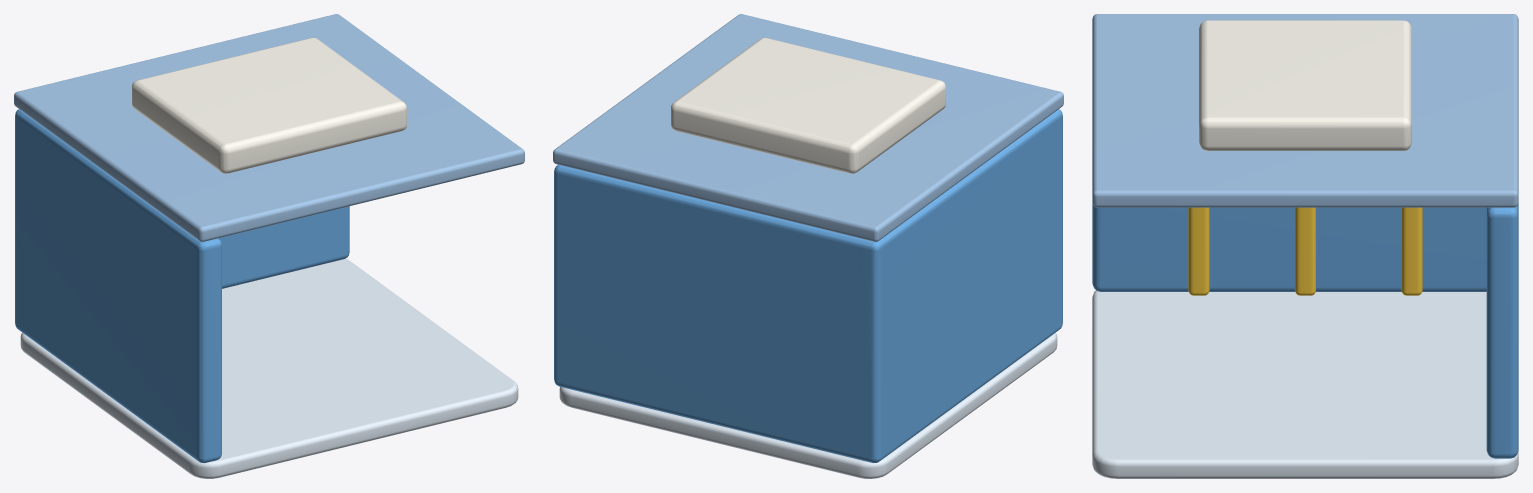
Rendered from pcv_trash_intake_corner.glb.
3 views of the same model, side by side, from view 1: azimuth 30°, elevation 25°; view 2: azimuth 150°, elevation 25°; view 3: azimuth 270°, elevation 25° (orthographic). The views are drawn at different scales.
Visible parts, largest first — view 1: pcv_trash_intake_corner.outer_recovery_wall_w, pcv_trash_intake_corner.walk_surface_floor, pcv_trash_intake_corner.roof_above_clearance, pcv_trash_intake_corner.intake_sorting_hood, pcv_trash_intake_corner.outer_recovery_wall_n; view 2: pcv_trash_intake_corner.outer_recovery_wall_n, pcv_trash_intake_corner.roof_above_clearance, pcv_trash_intake_corner.outer_recovery_wall_w, pcv_trash_intake_corner.intake_sorting_hood, pcv_trash_intake_corner.walk_surface_floor; view 3: pcv_trash_intake_corner.walk_surface_floor, pcv_trash_intake_corner.roof_above_clearance, pcv_trash_intake_corner.outer_recovery_wall_w, pcv_trash_intake_corner.intake_sorting_hood, pcv_trash_intake_corner.outer_recovery_wall_n, pcv_trash_intake_corner.recovery_wall_rib, pcv_trash_intake_corner.recovery_wall_rib.002, pcv_trash_intake_corner.recovery_wall_rib.001.
Boxes of the visible parts, x1,y1,x2,y2 form: pcv_trash_intake_corner.outer_recovery_wall_w: [15, 109, 221, 463]; pcv_trash_intake_corner.walk_surface_floor: [20, 258, 518, 478]; pcv_trash_intake_corner.roof_above_clearance: [14, 14, 524, 241]; pcv_trash_intake_corner.intake_sorting_hood: [132, 37, 406, 173]; pcv_trash_intake_corner.outer_recovery_wall_n: [15, 110, 349, 333]; pcv_trash_intake_corner.outer_recovery_wall_n: [554, 164, 887, 462]; pcv_trash_intake_corner.roof_above_clearance: [553, 14, 1063, 241]; pcv_trash_intake_corner.outer_recovery_wall_w: [859, 109, 1062, 463]; pcv_trash_intake_corner.intake_sorting_hood: [671, 37, 945, 173]; pcv_trash_intake_corner.walk_surface_floor: [559, 332, 1057, 478]; pcv_trash_intake_corner.walk_surface_floor: [1092, 290, 1518, 478]; pcv_trash_intake_corner.roof_above_clearance: [1092, 14, 1518, 207]; pcv_trash_intake_corner.outer_recovery_wall_w: [1092, 203, 1486, 291]; pcv_trash_intake_corner.intake_sorting_hood: [1199, 20, 1411, 150]; pcv_trash_intake_corner.outer_recovery_wall_n: [1486, 203, 1518, 458]; pcv_trash_intake_corner.recovery_wall_rib: [1188, 207, 1209, 295]; pcv_trash_intake_corner.recovery_wall_rib.002: [1401, 207, 1422, 295]; pcv_trash_intake_corner.recovery_wall_rib.001: [1295, 207, 1315, 295].
Size of the model in its own units: 4 by 3.34 by 4.
